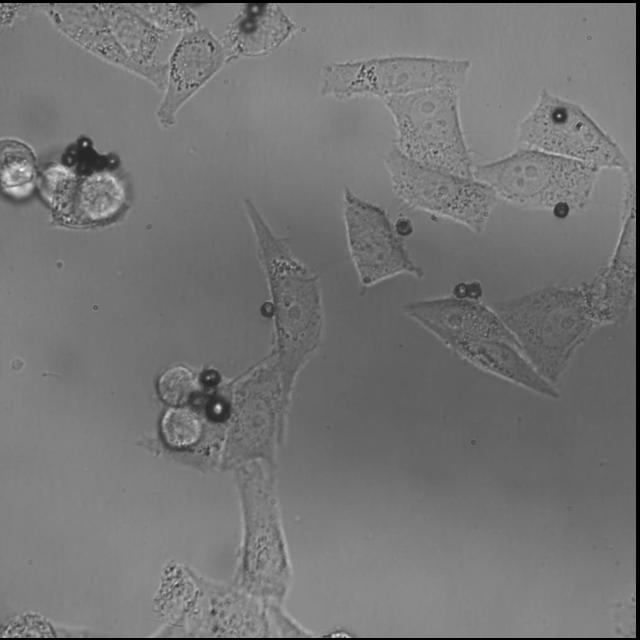microbeads: (206, 394, 234, 418), (198, 366, 220, 384), (468, 278, 486, 300), (555, 101, 571, 123), (552, 199, 570, 217), (452, 280, 468, 298)
